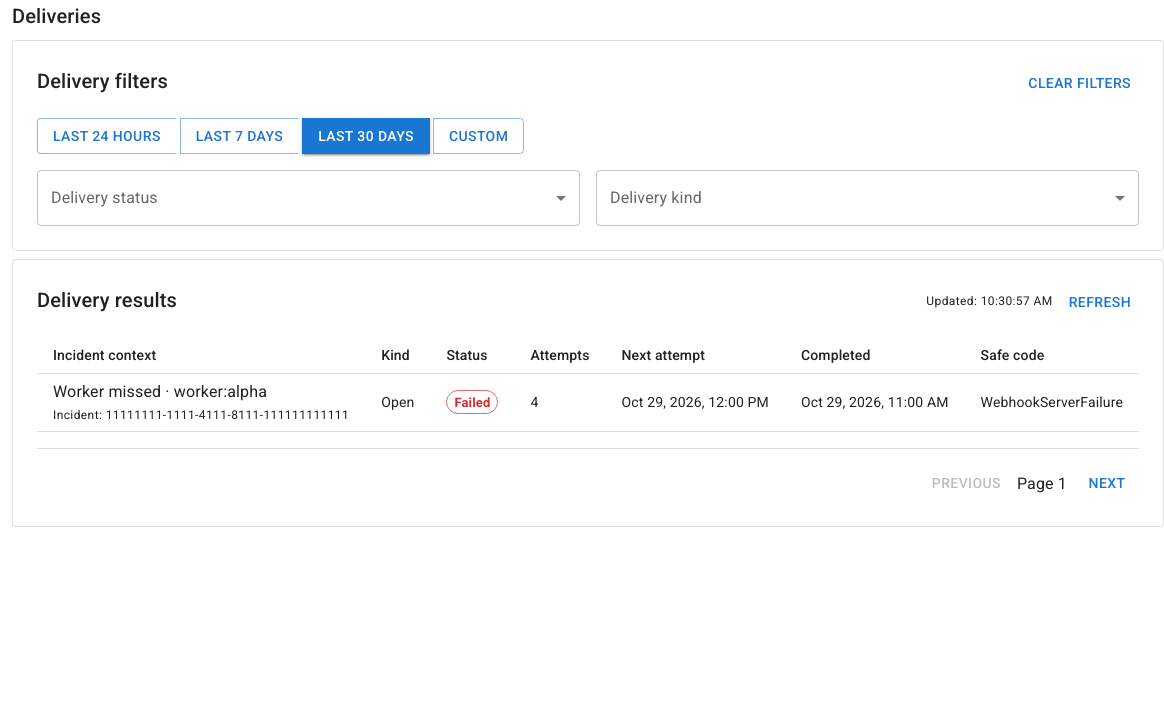
deliveries have their own period, status, kind filters, and readable incident context
This screenshot has width=1164, height=720.
Expected: the table named "Deliveries" is shown, [37, 336, 1139, 432]
Expected: the text "Worker missed · worker:alpha" is shown, [53, 382, 267, 400]
Click the dropdown named "Delivery status" next to "Delivery status" at (308, 198), box [37, 170, 580, 226]
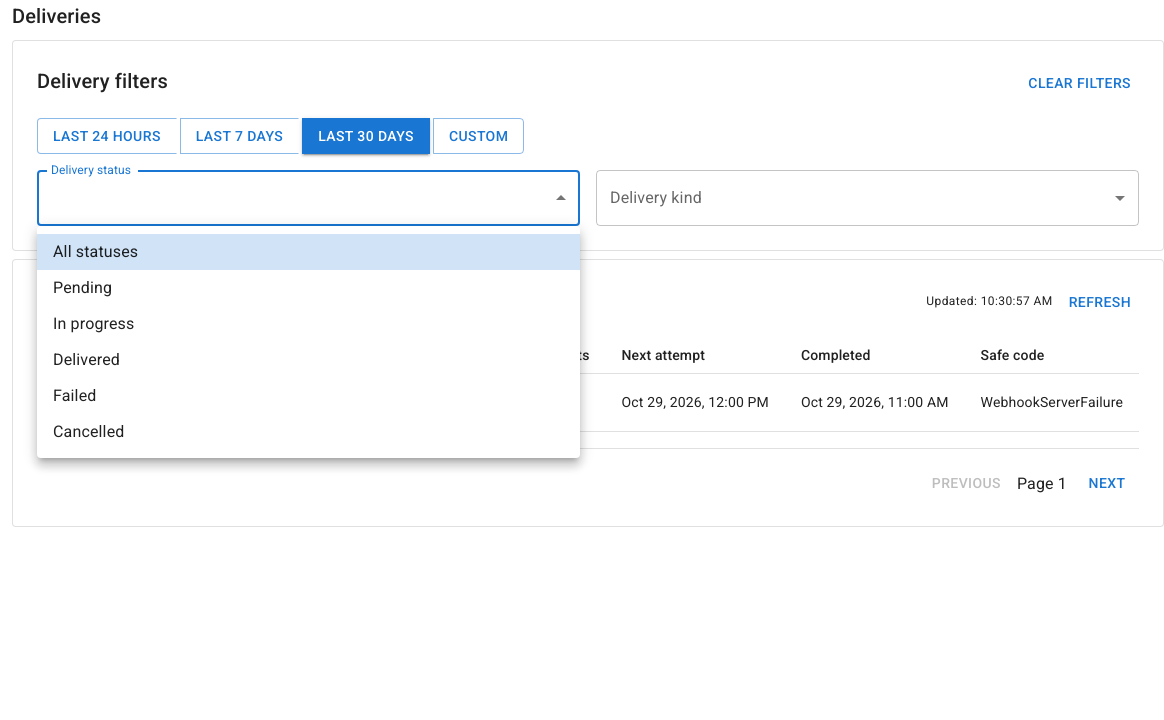
Click the option "Failed" at (75, 396), box [53, 386, 96, 405]
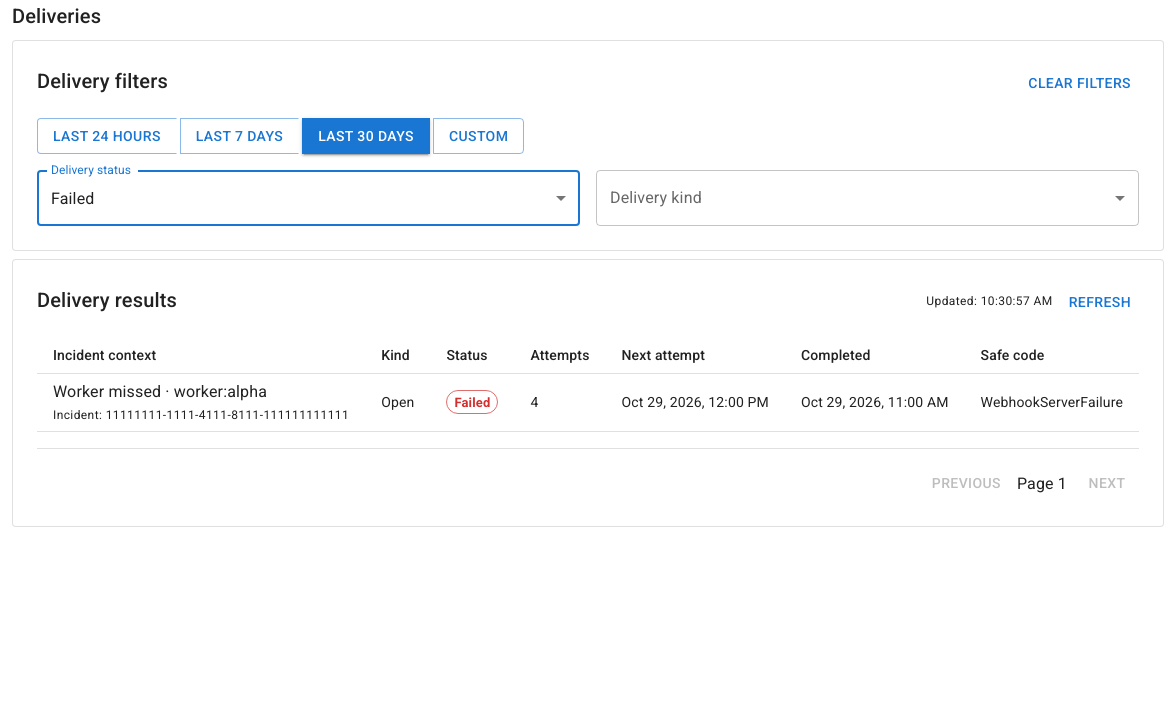
Now the dropdown named "Delivery status" reads "Failed", box [51, 188, 94, 208]
Click the dropdown named "Delivery kind" at (868, 198), box [596, 170, 1139, 226]
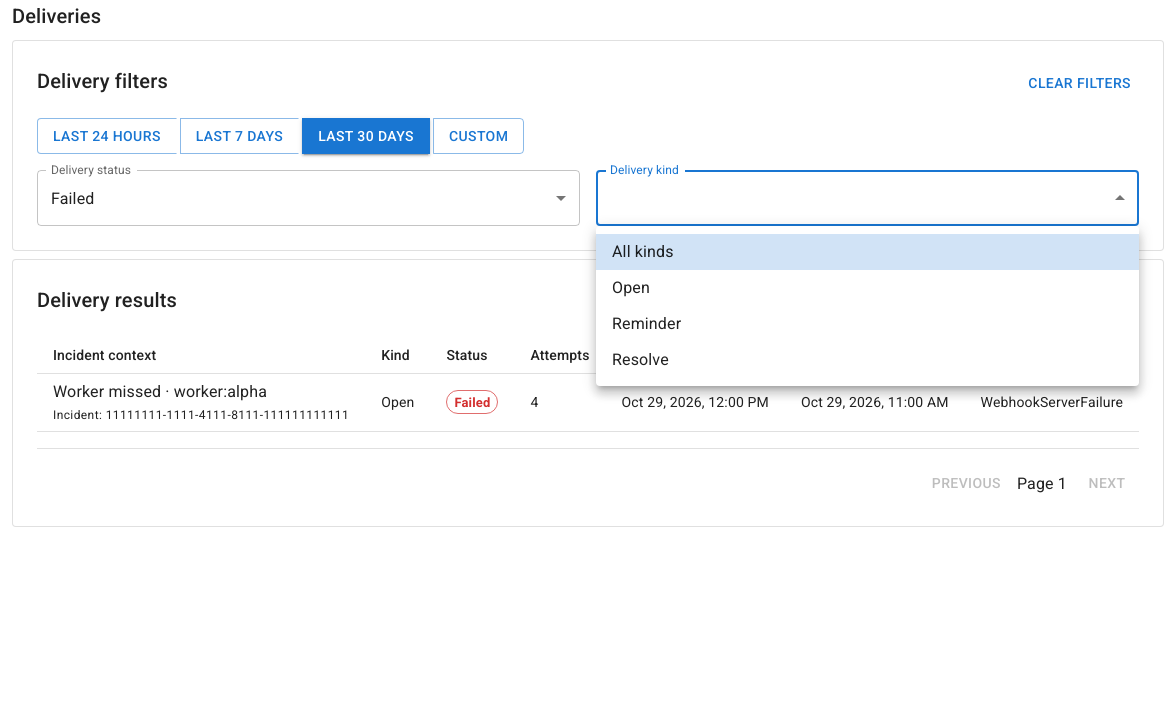
Click the option "Open" at (631, 288), box [612, 278, 650, 297]
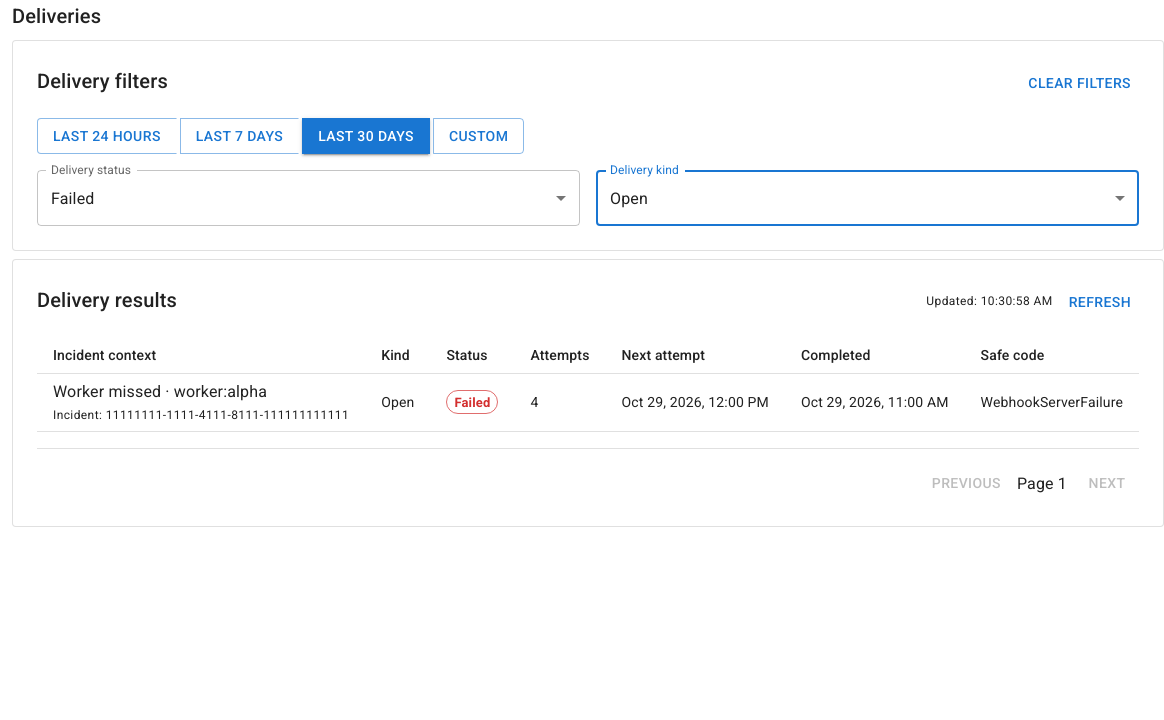
Now the dropdown named "Delivery kind" reads "Open", box [610, 188, 648, 208]
